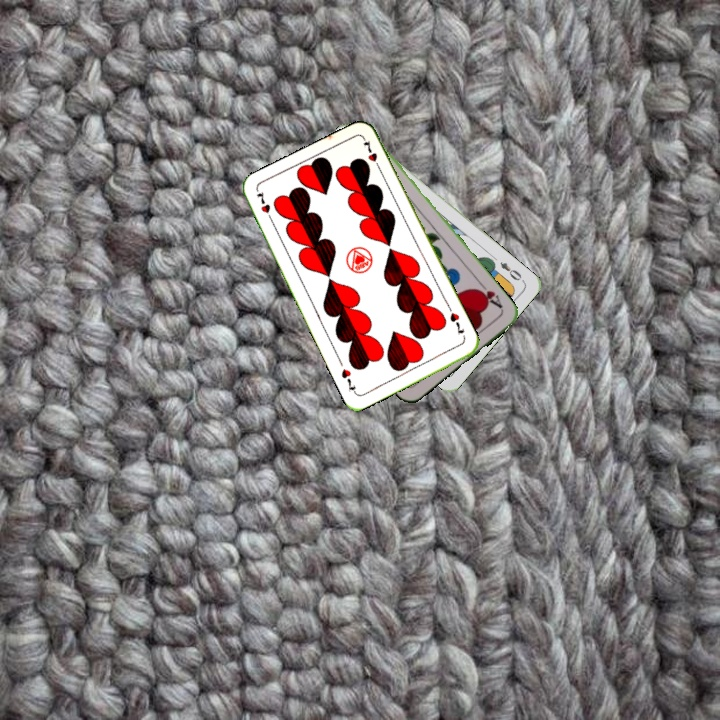EO: (496, 258, 524, 283)
H7: (252, 187, 276, 225), (444, 303, 467, 338)
HA: (472, 278, 506, 312)
